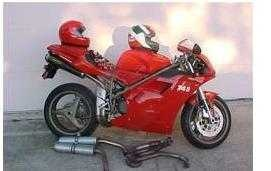motorcycle: (41, 18, 232, 152)
